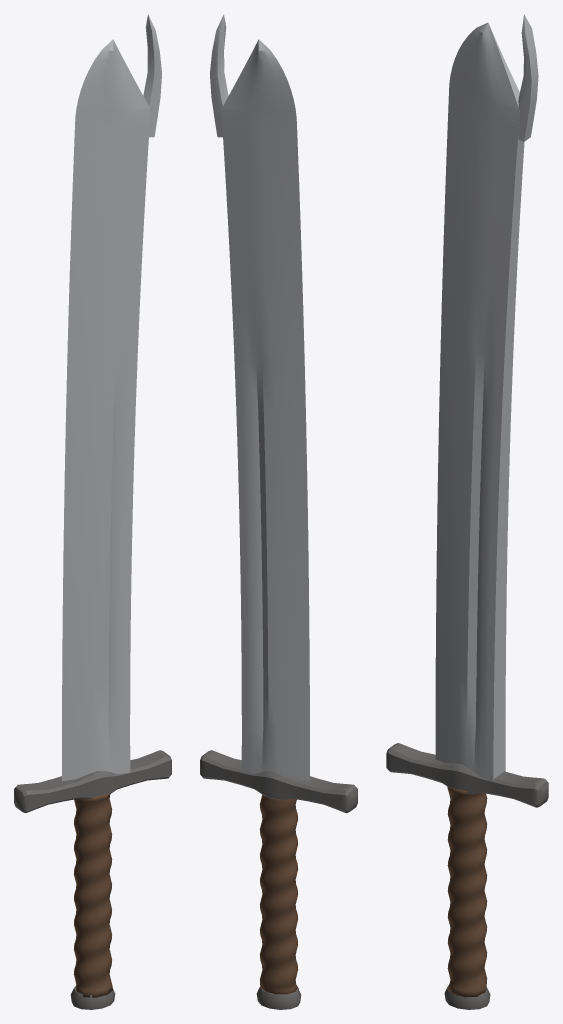
File: rhoka-sword.glb
The picture shows the model from 3 angles, left to right: view 1: azimuth 30°, elevation 25°; view 2: azimuth 150°, elevation 25°; view 3: azimuth 330°, elevation 25°; orthographic projection. The views are drawn at different scales.
Parts seen in each view (by area): view 1: rhoka-sword; view 2: rhoka-sword; view 3: rhoka-sword.
Part boxes in pixels (<box>): rhoka-sword: <box>14,14,171,1009</box>; rhoka-sword: <box>200,14,357,1009</box>; rhoka-sword: <box>386,14,548,1009</box>.
Size of the model in its own units: 0.32 by 1.95 by 0.0714.
